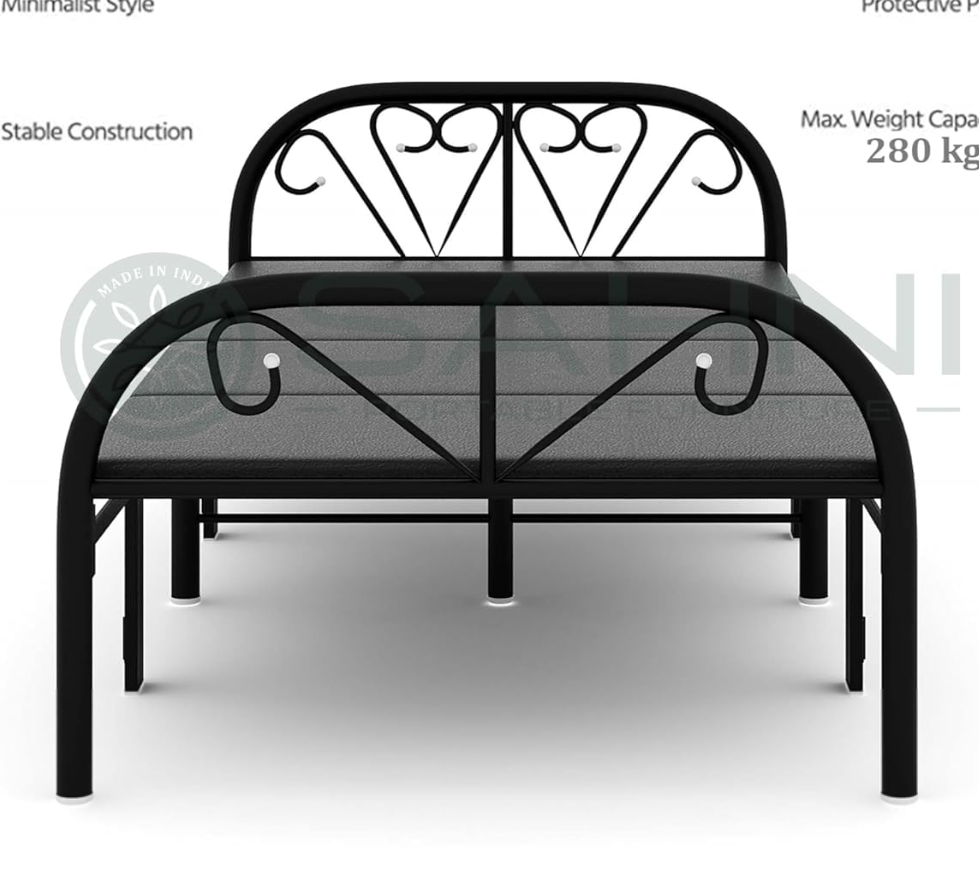cot: (40, 53, 953, 808)
